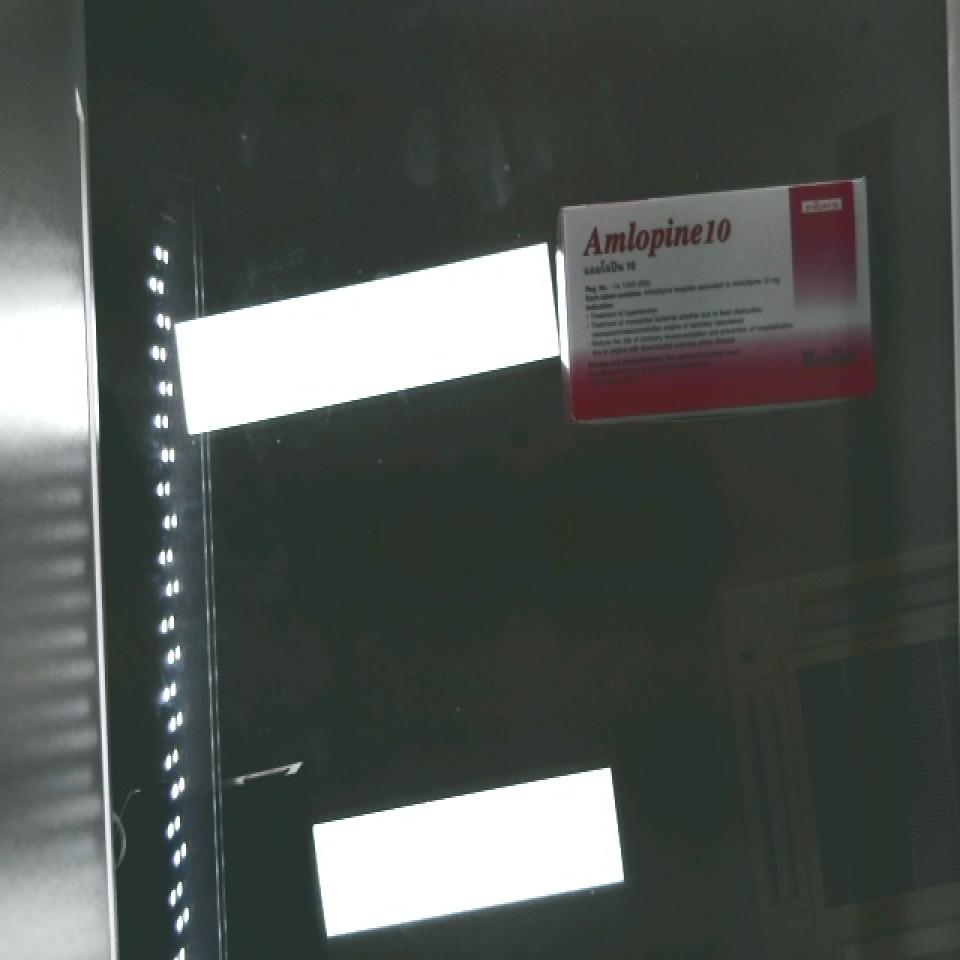medicine_box: (555, 176, 882, 424)
medicine_label_obb: (568, 194, 751, 271)
